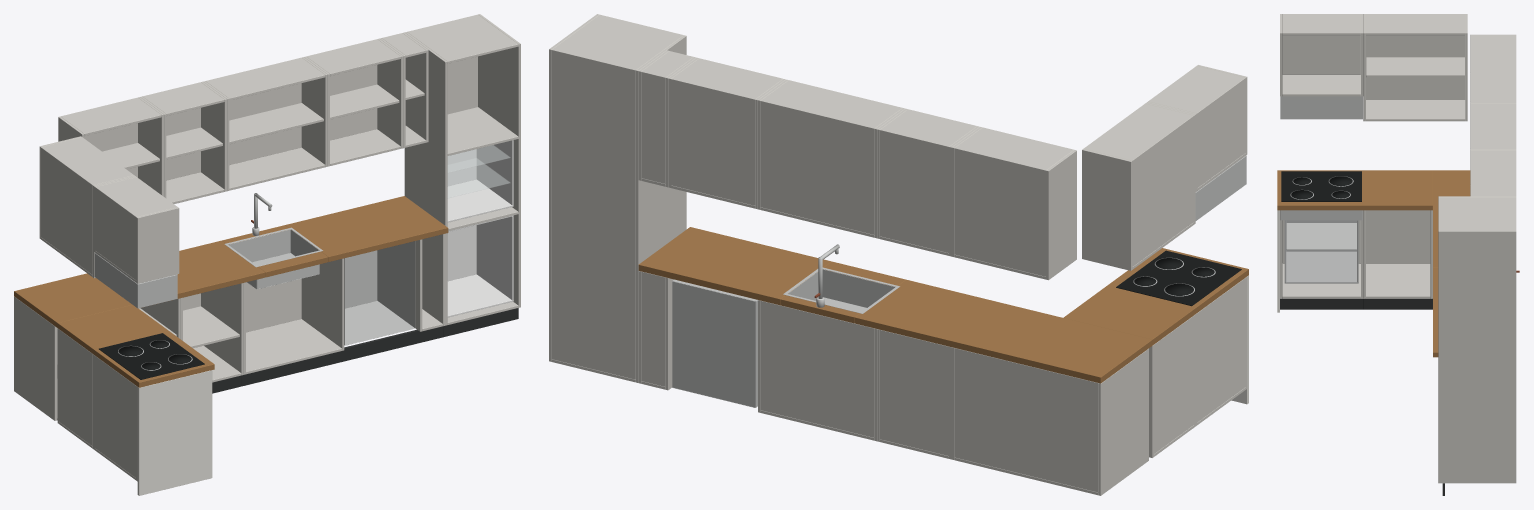
File: l_kitchen_long_body.glb
3 renders of one model, left to right at view 1: azimuth 30°, elevation 25°; view 2: azimuth 150°, elevation 25°; view 3: azimuth 270°, elevation 25°, orthographic. The views are drawn at different scales.
Visible parts, largest first — view 1: l_kitchen_long_body; view 2: l_kitchen_long_body; view 3: l_kitchen_long_body.
Boxes of the visible parts, left/top/right/bottom form: l_kitchen_long_body: left=14, top=14, right=520, bottom=495; l_kitchen_long_body: left=549, top=14, right=1248, bottom=495; l_kitchen_long_body: left=1277, top=14, right=1519, bottom=495.
Bounding box in the file's own units: 3.7 × 2.1 × 1.75.
